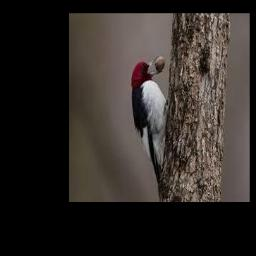Woodpecker: (131, 55, 168, 199)
